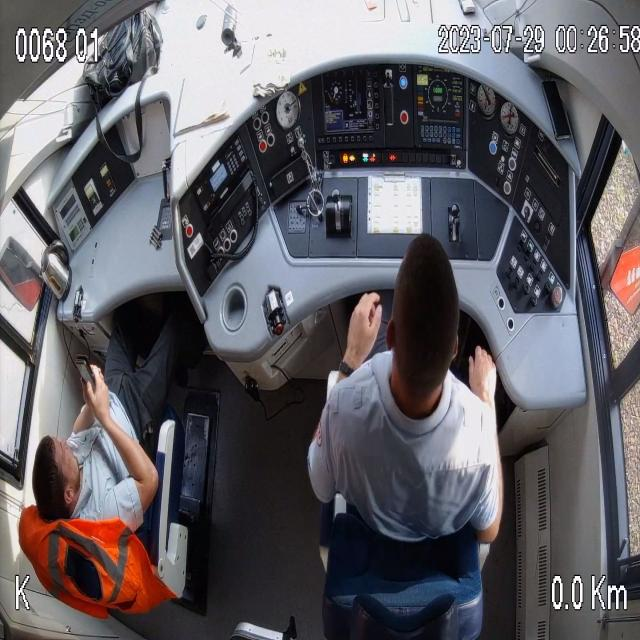smartphone: (74, 351, 113, 427)
